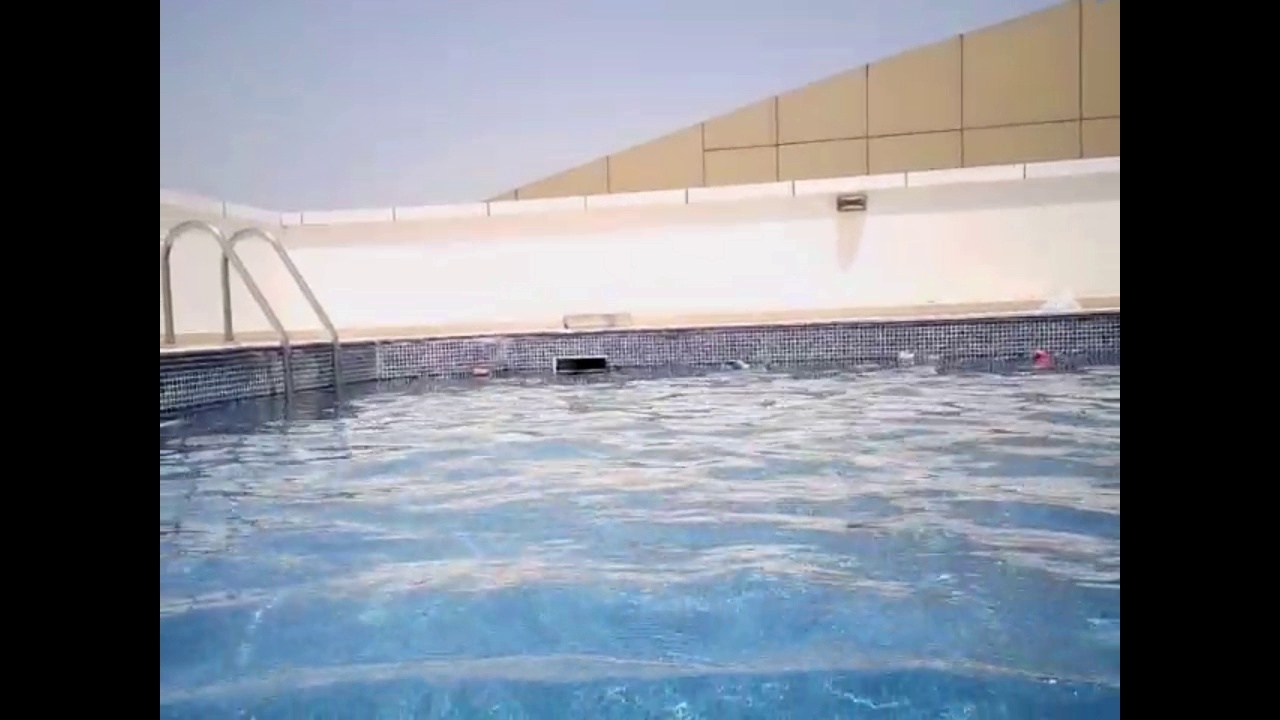debris: (1022, 347, 1055, 375), (466, 362, 496, 385), (894, 348, 918, 376), (722, 357, 754, 374)
